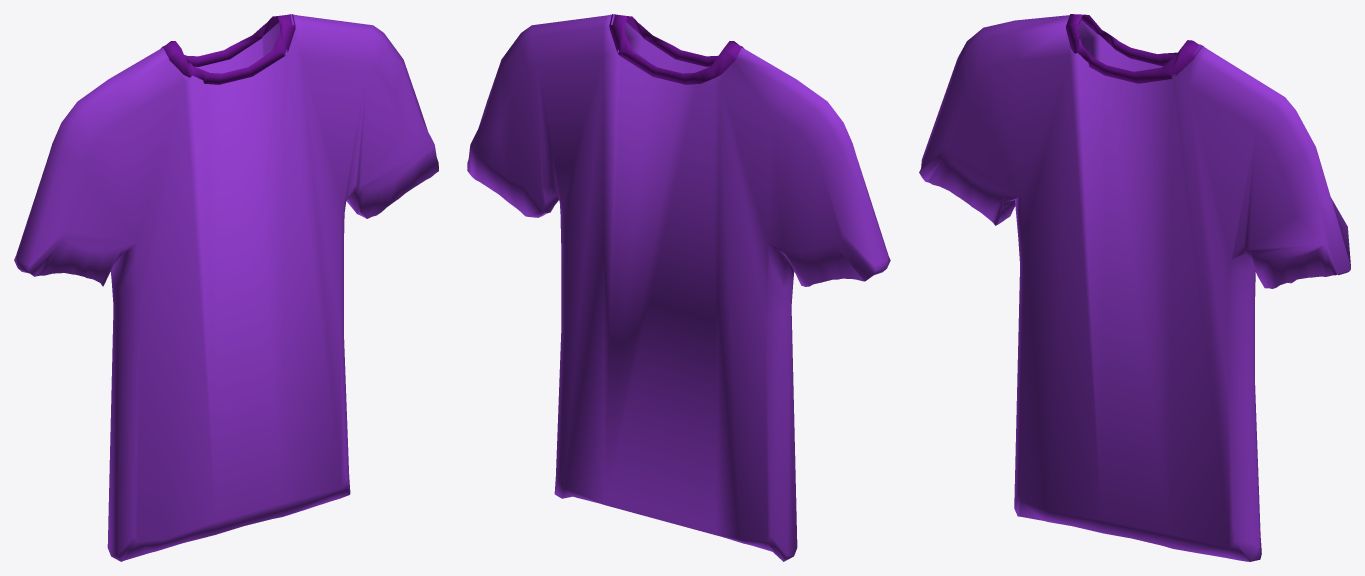
The model's file is purple.dae.
3 views of the same model, side by side, from view 1: azimuth 30°, elevation 25°; view 2: azimuth 150°, elevation 25°; view 3: azimuth 330°, elevation 25° (orthographic). The views are drawn at different scales.
Parts seen in each view (by area): view 1: Group_1_001, Group_2_001; view 2: Group_1_001, Group_2_001; view 3: Group_1_001, Group_2_001.
Boxes of the visible parts, x1,y1,x2,y2 form: Group_1_001: (14,14,438,561); Group_2_001: (160,14,295,84); Group_1_001: (467,14,890,561); Group_2_001: (609,14,743,84); Group_1_001: (919,15,1350,561); Group_2_001: (1066,14,1203,83).
Bounding box in the file's own units: 2.35 × 0.2281 × 2.68.
